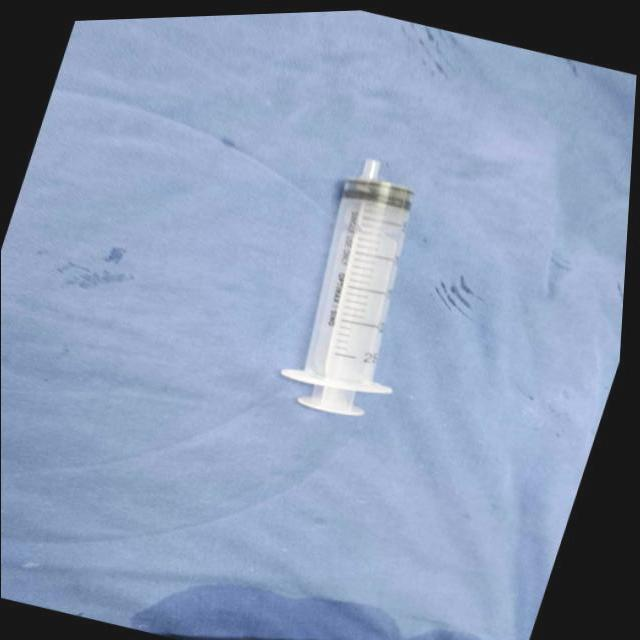Pathological: (2, 7, 636, 638)
Sharps: (279, 157, 416, 416)
